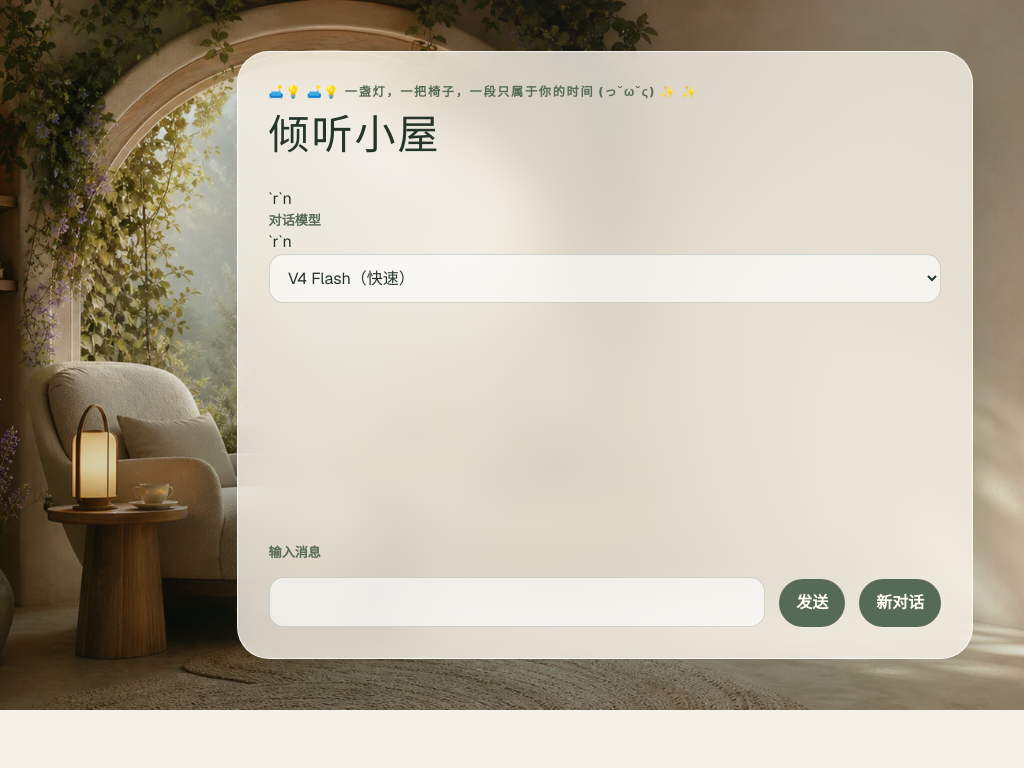
Test: shows an error when no API key is configured
In the field labelled "输入消息": [517, 602] box [268, 577, 765, 627], type "你好"
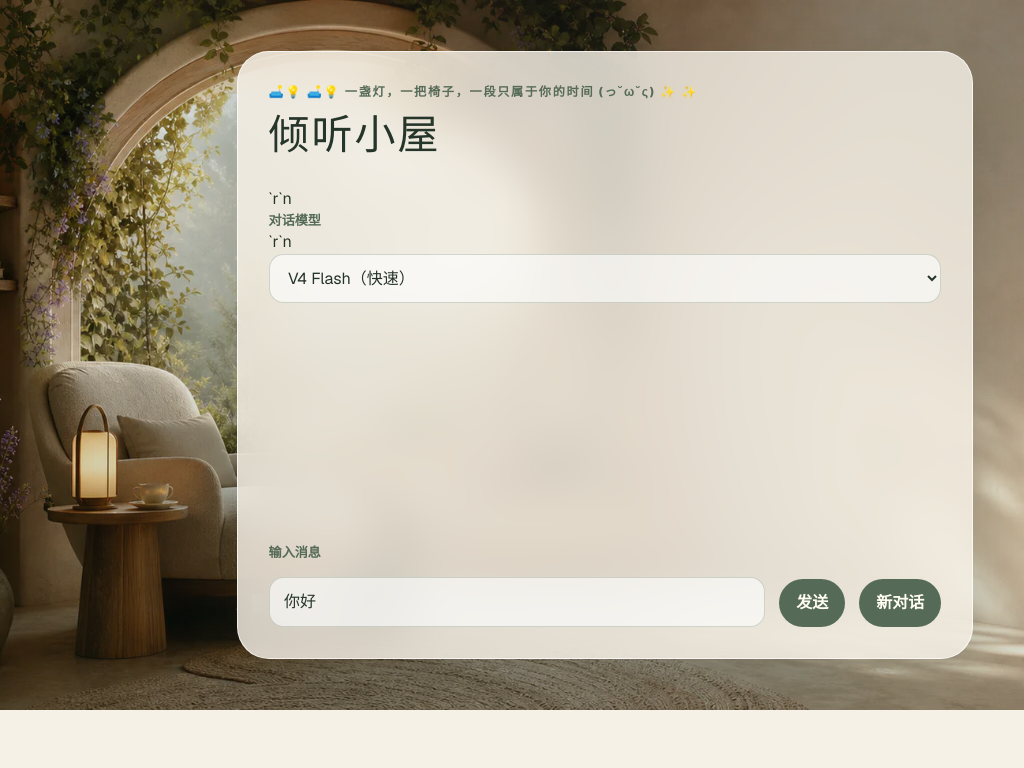
Click the button "发送": [812, 603] box [780, 579, 845, 627]
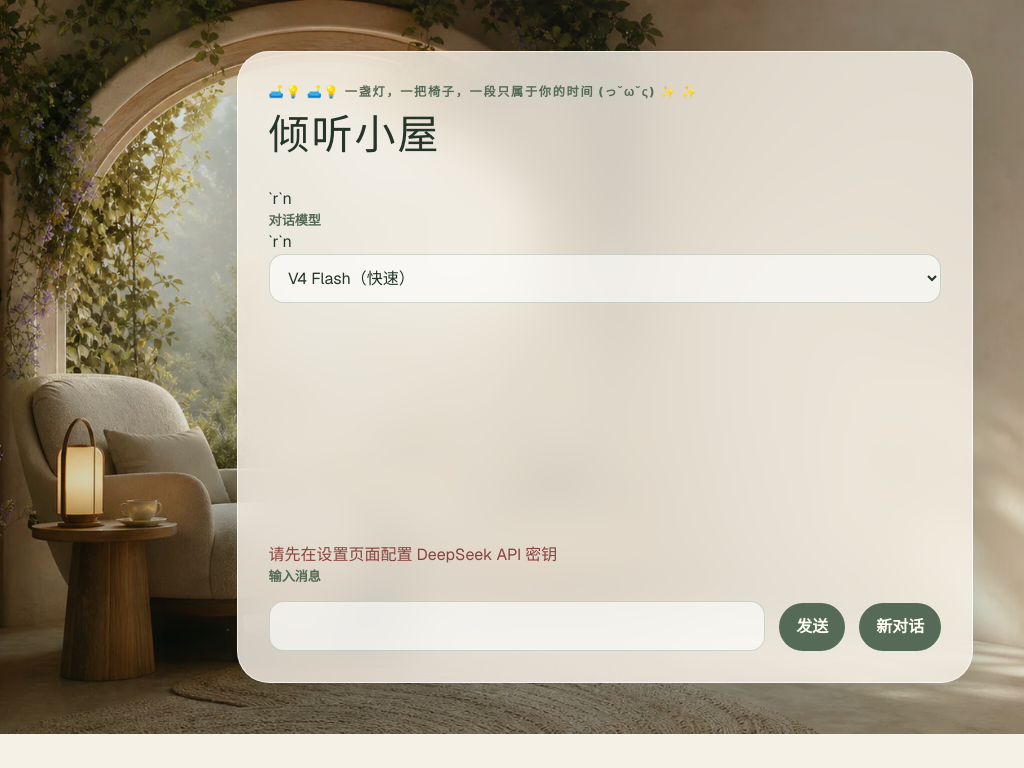
Check: the message shows "API 密钥", box [268, 544, 557, 565]
